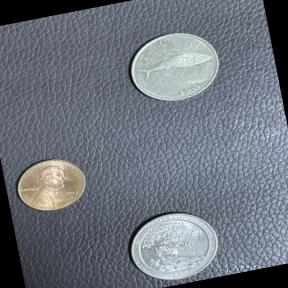coin: (117, 19, 230, 114), (118, 200, 230, 288), (6, 148, 95, 222)
